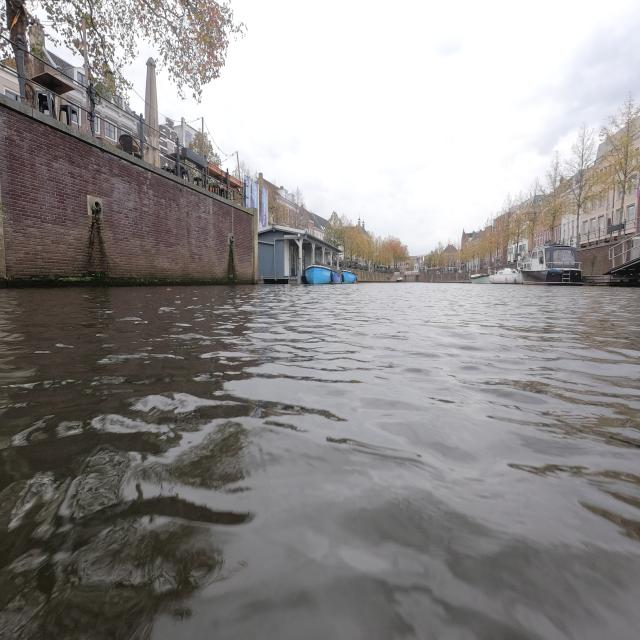boat: (518, 243, 582, 285), (305, 264, 344, 284), (489, 268, 523, 284), (342, 269, 357, 284), (470, 273, 490, 284)
sky: (212, 4, 638, 250)
wall: (0, 100, 256, 280)
water: (12, 290, 638, 632)
